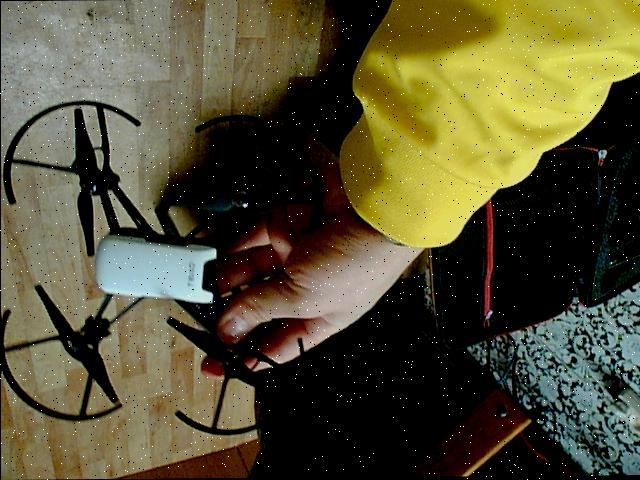drone: (0, 77, 321, 454)
